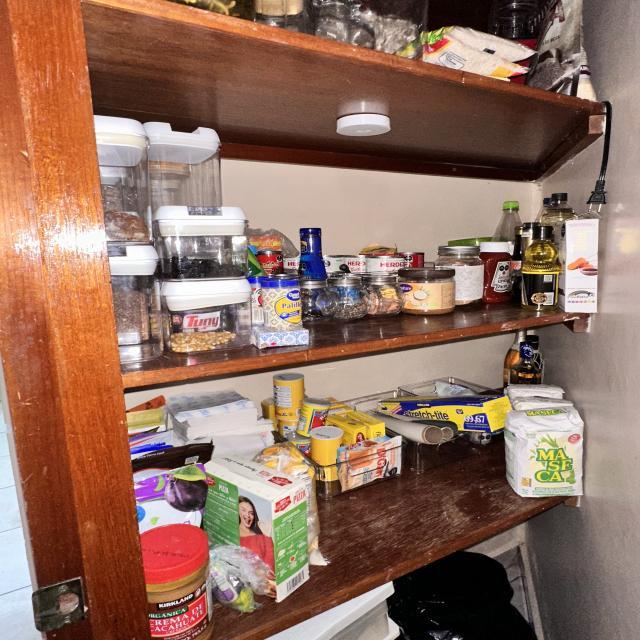hidden camera: (339, 264, 347, 270)
